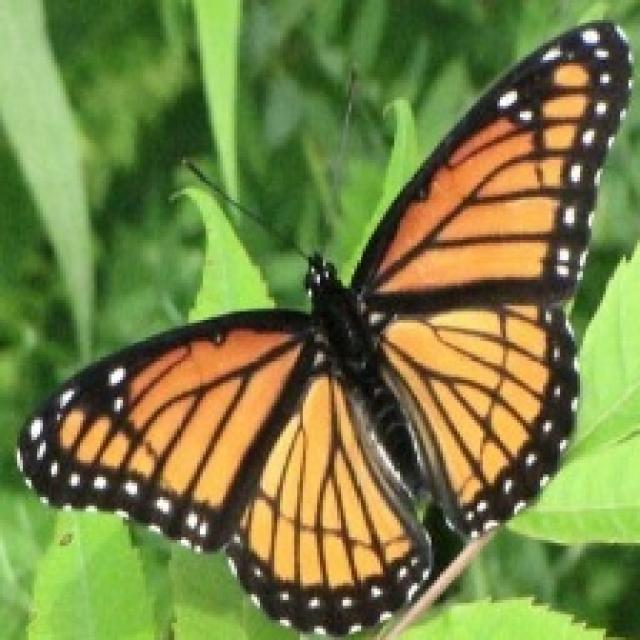butterfly: (11, 17, 634, 637)
